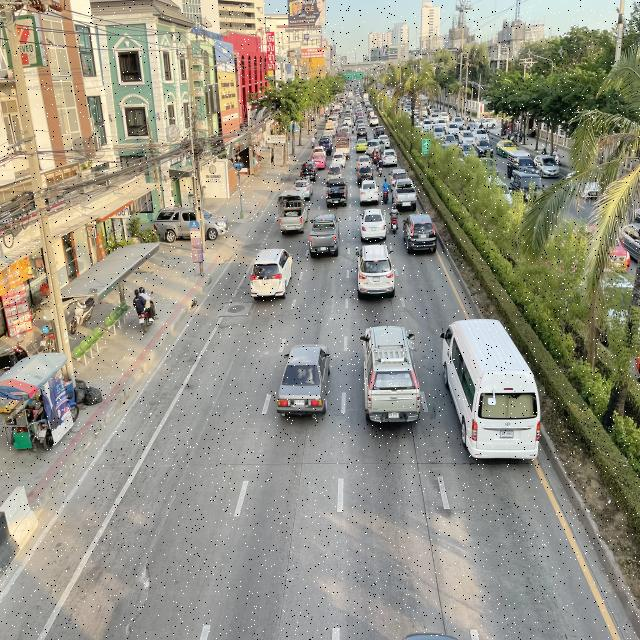truck: (276, 187, 310, 238), (388, 200, 402, 237)
